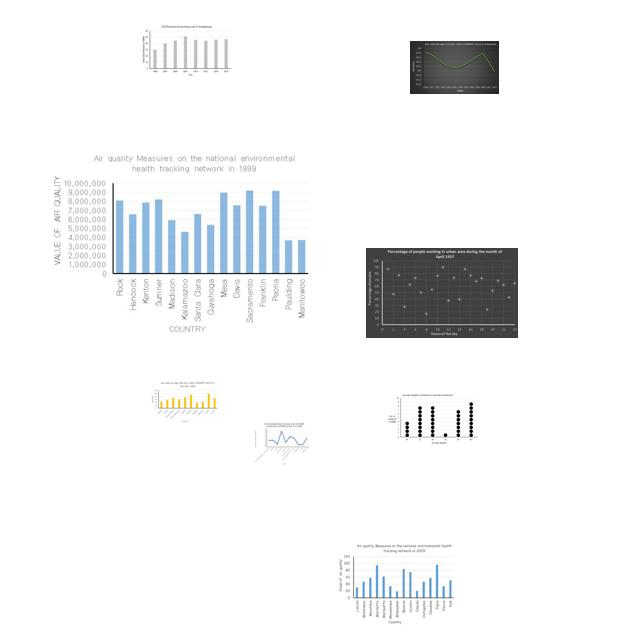Graph: (45, 150, 312, 338), (366, 248, 518, 338), (337, 542, 456, 626), (386, 392, 479, 446), (141, 24, 232, 77), (410, 41, 499, 94), (149, 381, 219, 423), (254, 422, 309, 466)
